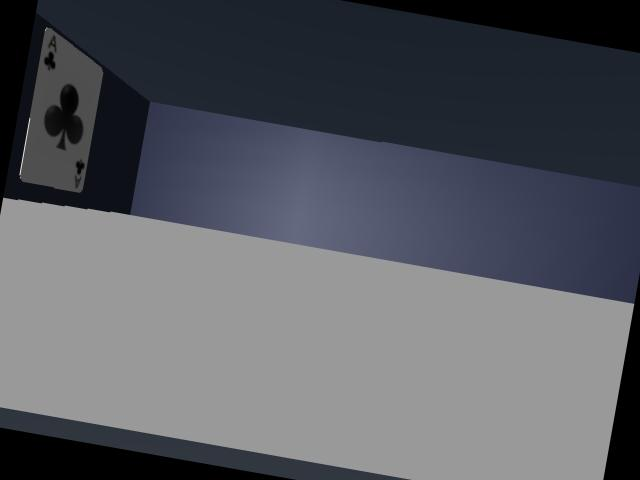club: (20, 28, 102, 192)
